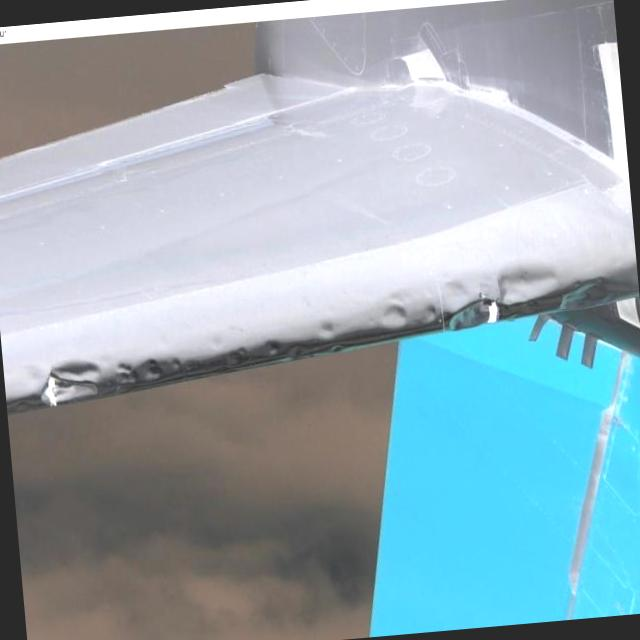dent: (30, 254, 622, 410)
